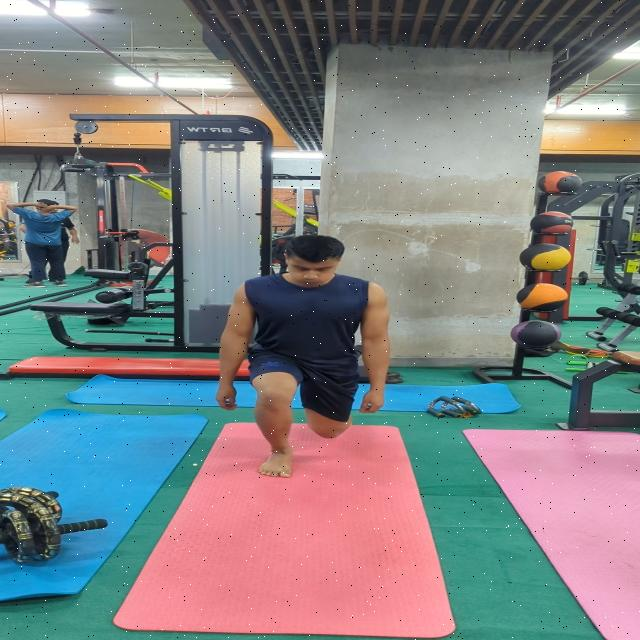Normal_Lunges: (213, 232, 396, 482)
